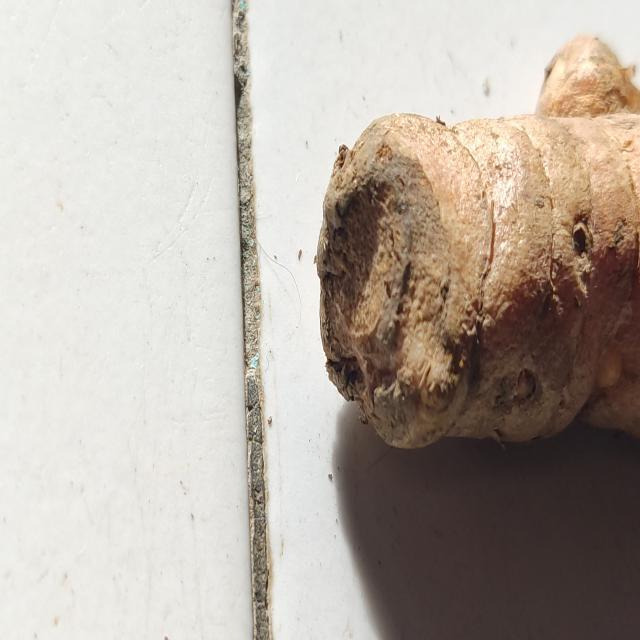ginger: (322, 49, 640, 448)
